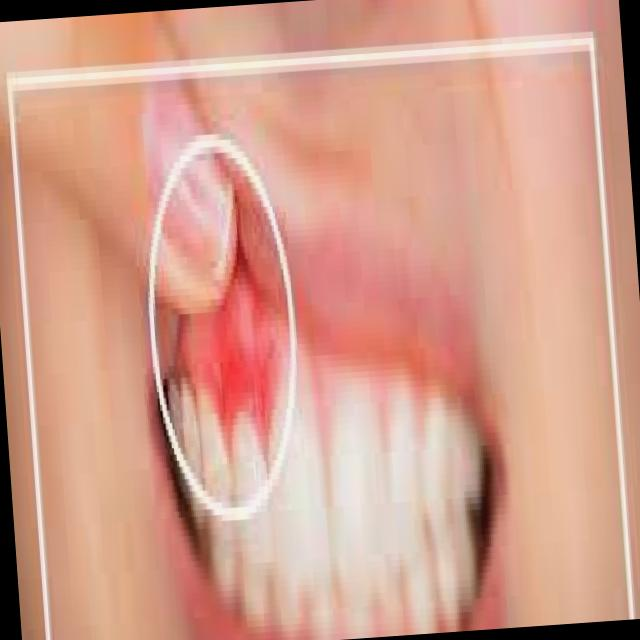abscess: (146, 229, 312, 492)
